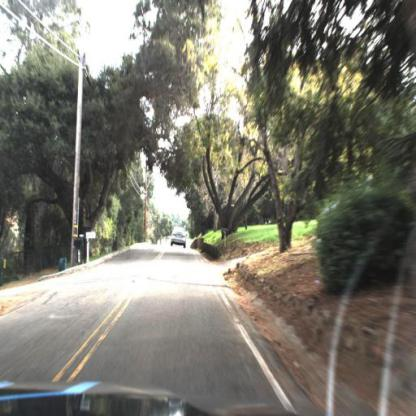car: (170, 224, 191, 254)
